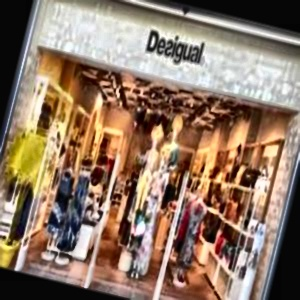desigual: (140, 12, 280, 35)
